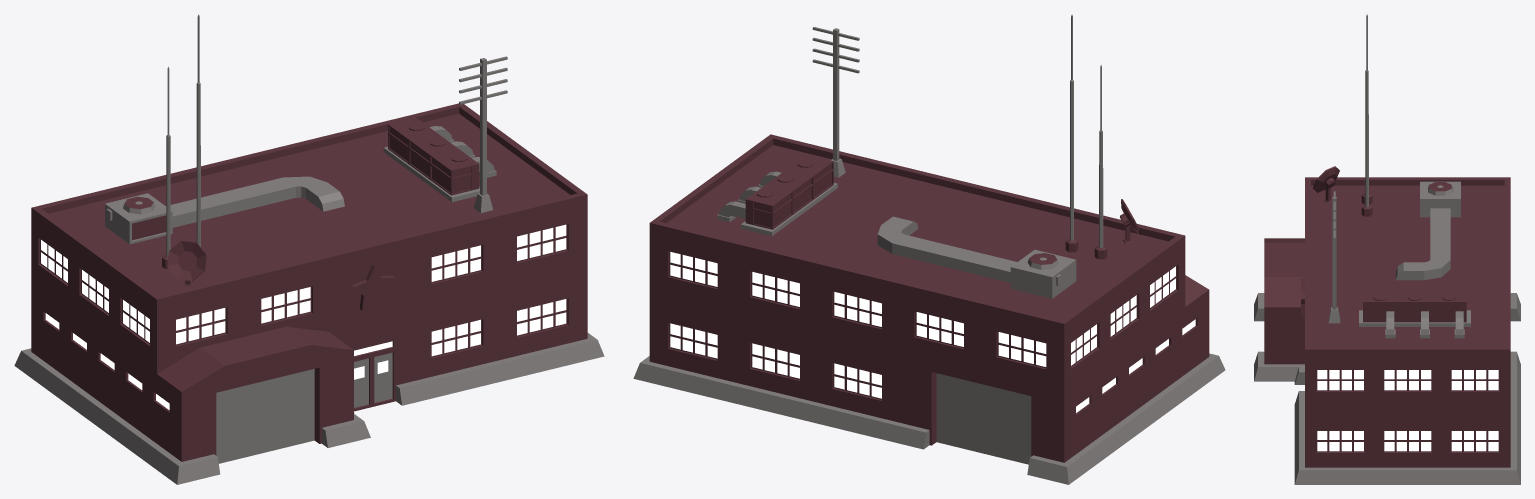
Rendered from military-military-headquarters.glb.
3 views of the same model, side by side, from view 1: azimuth 30°, elevation 25°; view 2: azimuth 150°, elevation 25°; view 3: azimuth 270°, elevation 25° (orthographic). The views are drawn at different scales.
Visible parts, largest first — view 1: military-headquarters; view 2: military-headquarters; view 3: military-headquarters.
Part boxes in pixels (bbox=[...]): military-headquarters: bbox=[14, 14, 604, 484]; military-headquarters: bbox=[633, 14, 1225, 484]; military-headquarters: bbox=[1254, 14, 1520, 484].
Bounding box in the file's own units: 21 × 17.68 × 13.1.
